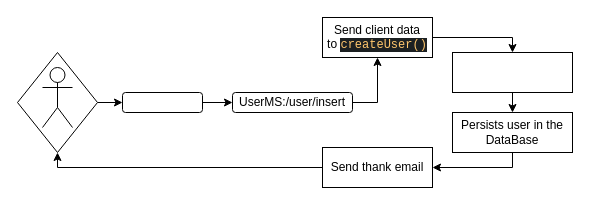
This 590x205 diagram has some shape labels left out. Here are the shapes that lost their labels. From the top down, the centre of each, then its label:
point 512,72: Check client credentals validation
point 162,102: Gateway MS
